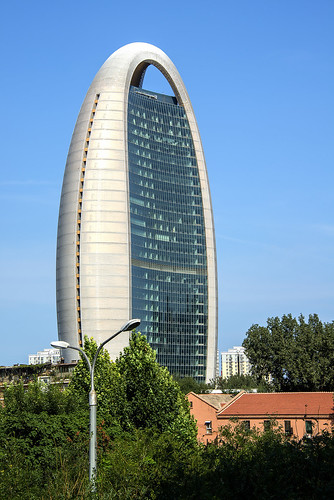low: (51, 37, 221, 394)
